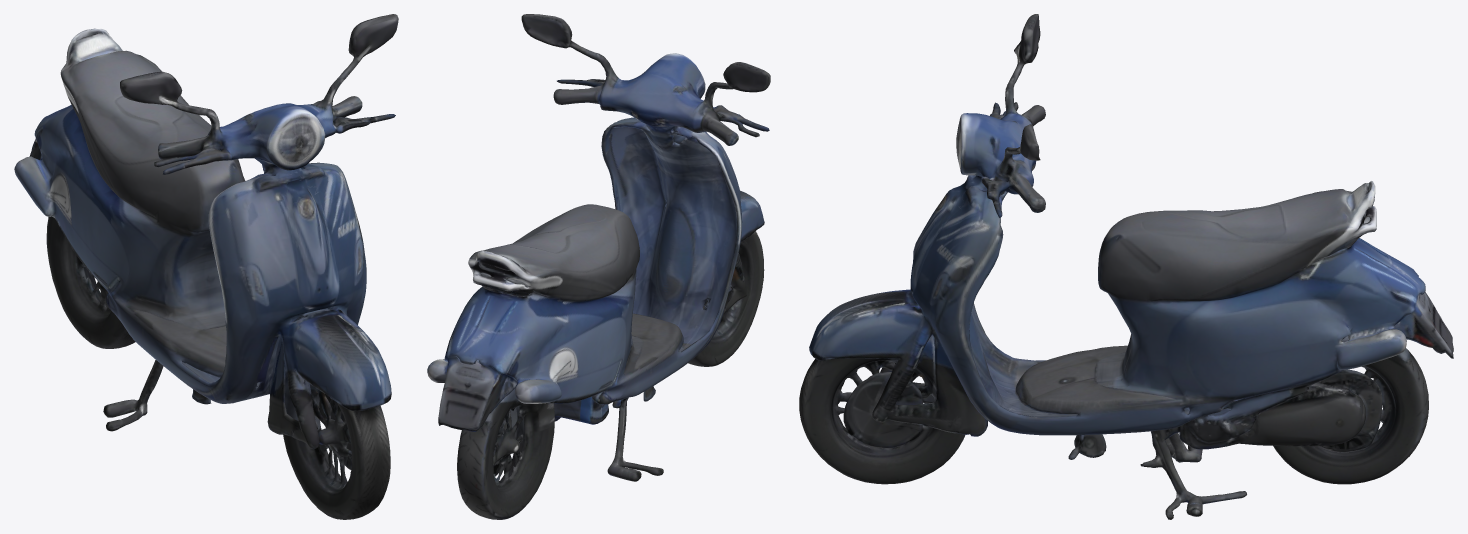
The model's file is Bajaj_Chetak_Premium__0905124601.fbx.
3 views of the same model, side by side, from view 1: azimuth 30°, elevation 25°; view 2: azimuth 150°, elevation 25°; view 3: azimuth 270°, elevation 25° (orthographic). The views are drawn at different scales.
Visible parts, largest first — view 1: Mesh_0; view 2: Mesh_0; view 3: Mesh_0.
Part boxes in pixels (x1,y1,x2,y2): Mesh_0: (14, 14, 398, 519); Mesh_0: (427, 14, 770, 519); Mesh_0: (799, 14, 1453, 519).
Size of the model in its own units: 96.29 by 138 by 201.
1 material, 1 textured.
